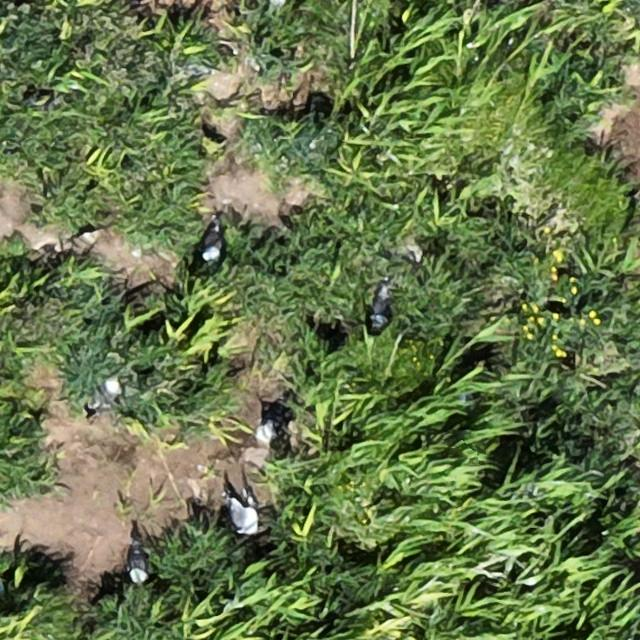umineko: (84, 375, 122, 414), (229, 499, 256, 535), (202, 224, 220, 260), (128, 546, 146, 582), (372, 286, 388, 324)
